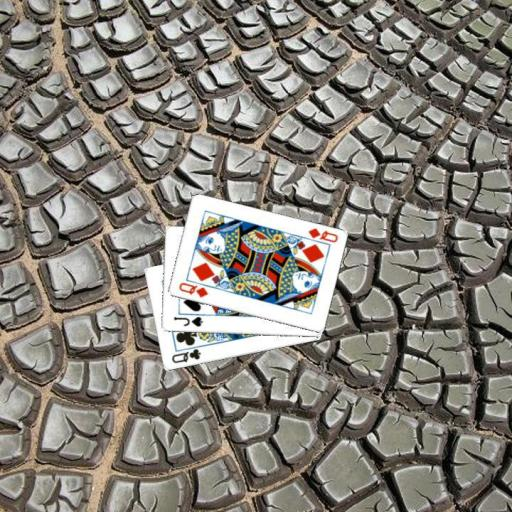JS: (171, 314, 204, 329)
QC: (168, 346, 202, 365)
QD: (305, 225, 340, 244), (176, 280, 209, 300)
